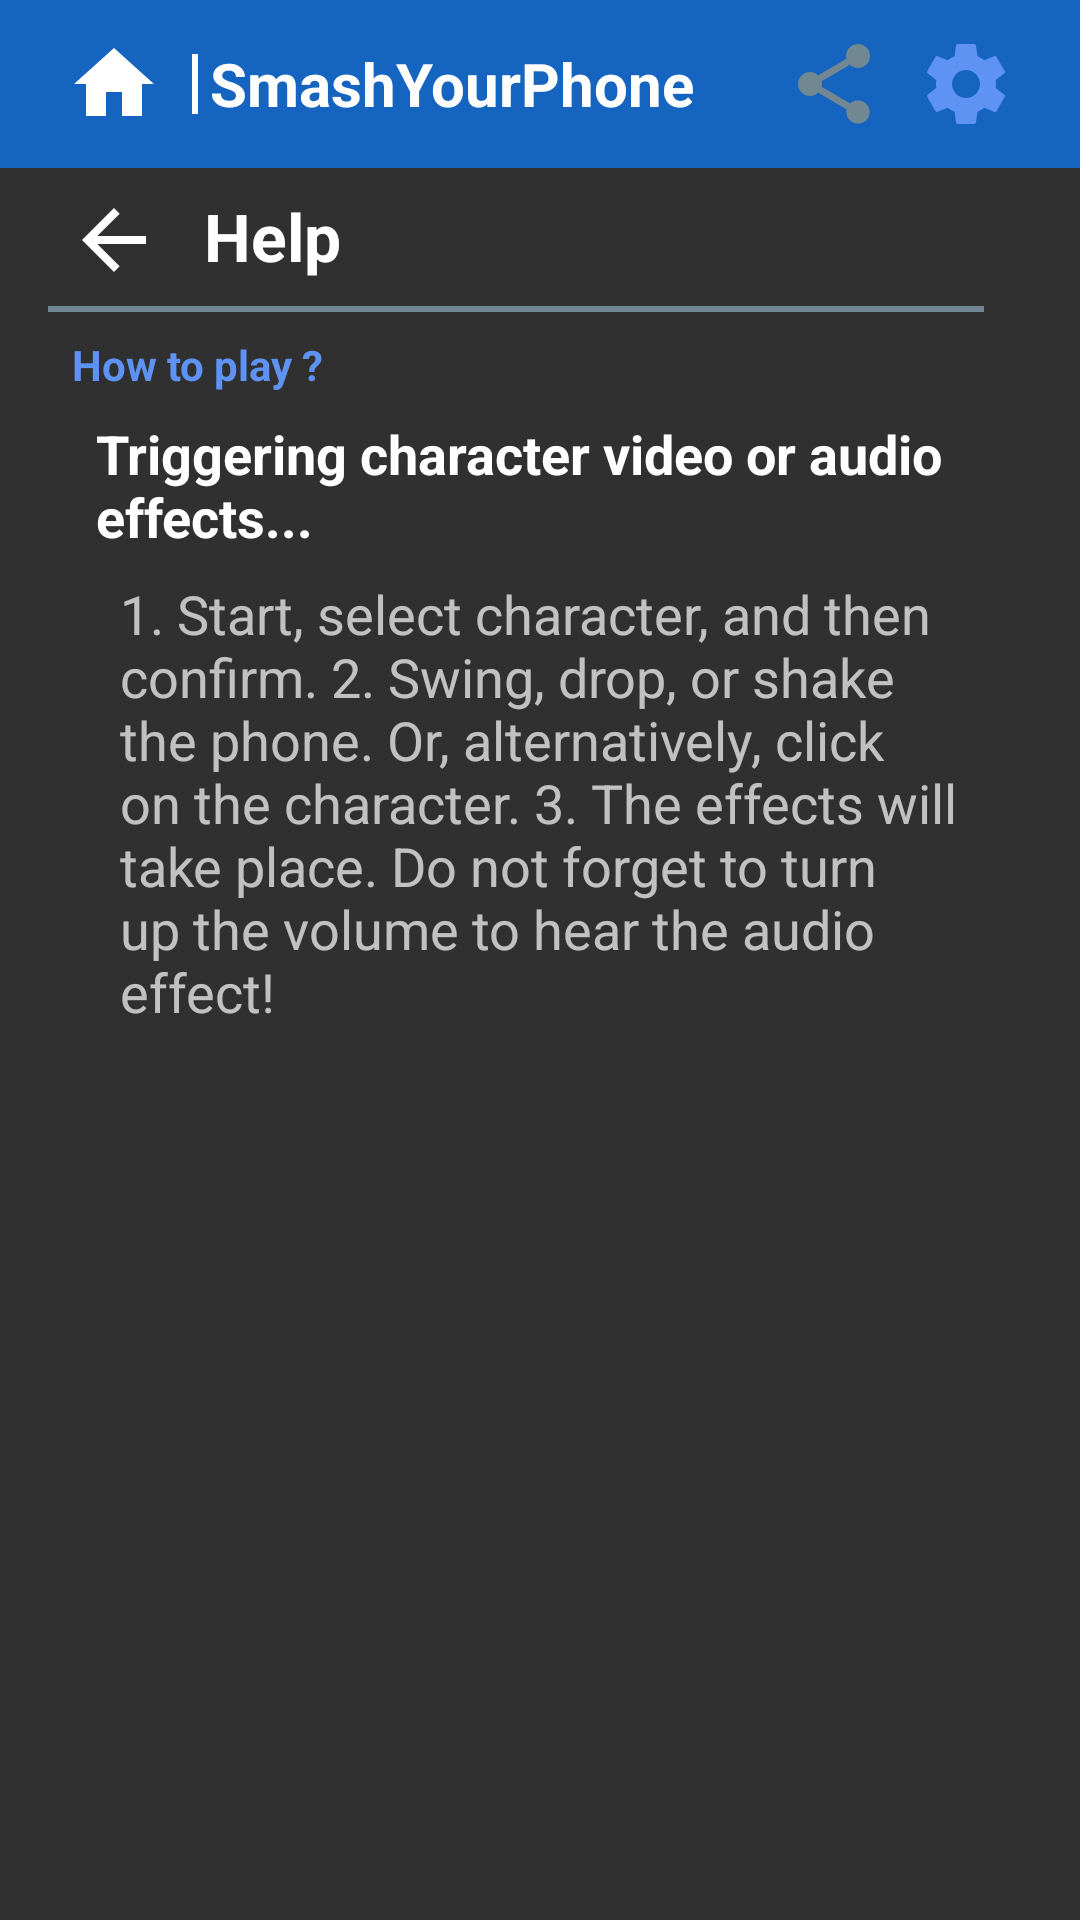

Point at icon controls on the screen. Image size 1080px×1920px, points as (x,y).
Back Arrow: (114,240)
